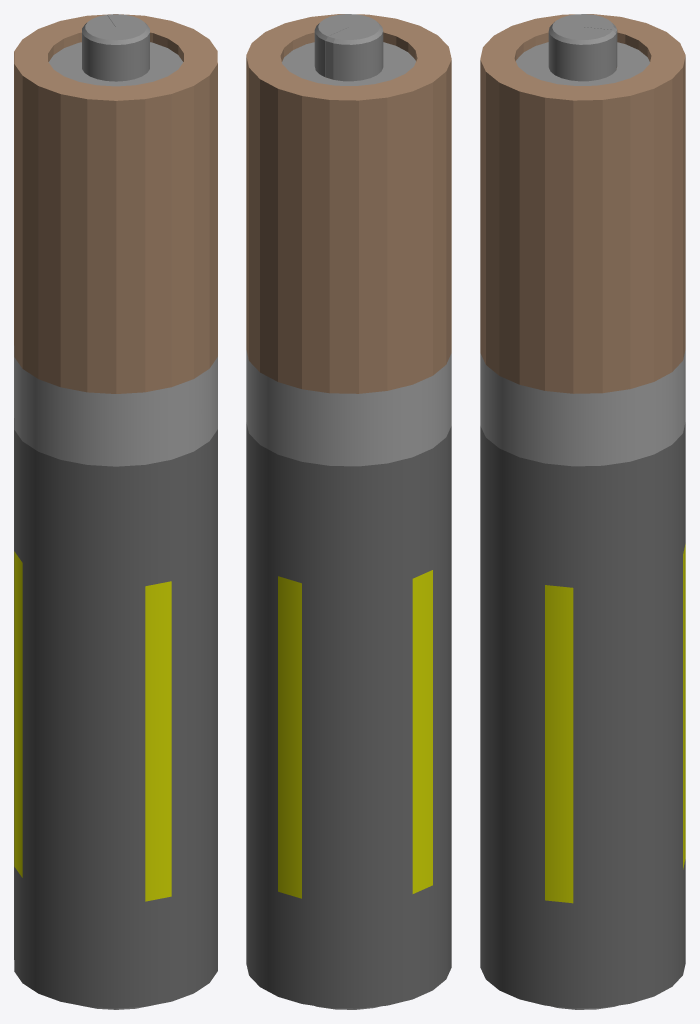
Rendered from Small Battery.fbx.
3 renders of one model, left to right at view 1: azimuth 30°, elevation 25°; view 2: azimuth 150°, elevation 25°; view 3: azimuth 270°, elevation 25°, orthographic.
Parts seen in each view (by area): view 1: Battery3; view 2: Battery3; view 3: Battery3.
Part boxes in pixels (x1,y1,x2,y2): Battery3: [14, 14, 217, 1009]; Battery3: [246, 14, 451, 1009]; Battery3: [480, 14, 685, 1009].
Size of the model in its own units: 0.8521 by 4.38 by 0.8548.
